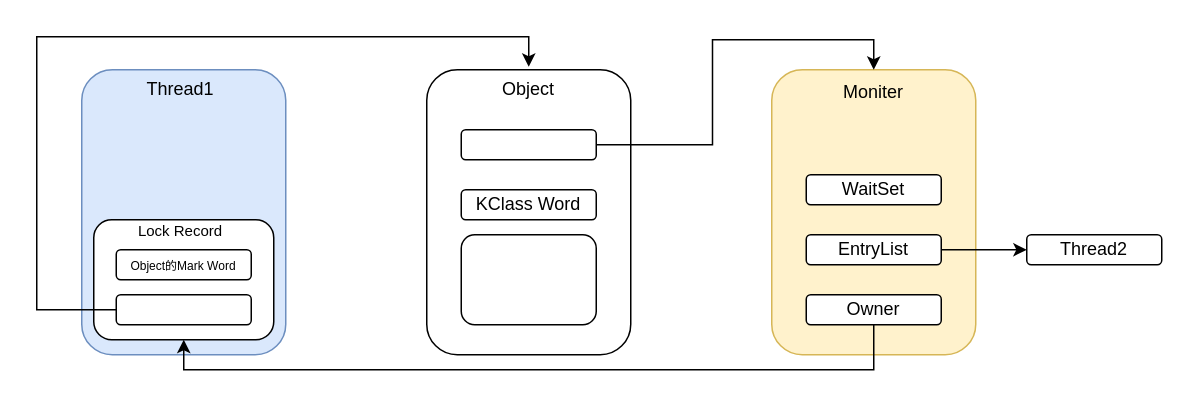
The diagram is 1188 pixels wide and 408 high, and some of its shapes have lost their labels. The centre of each missing label's shape, as x and y in pixels:
"Moniter地址" goes at point 528,144.
"Object Body" goes at point 528,279.
"Object Reference" goes at point 183,309.
